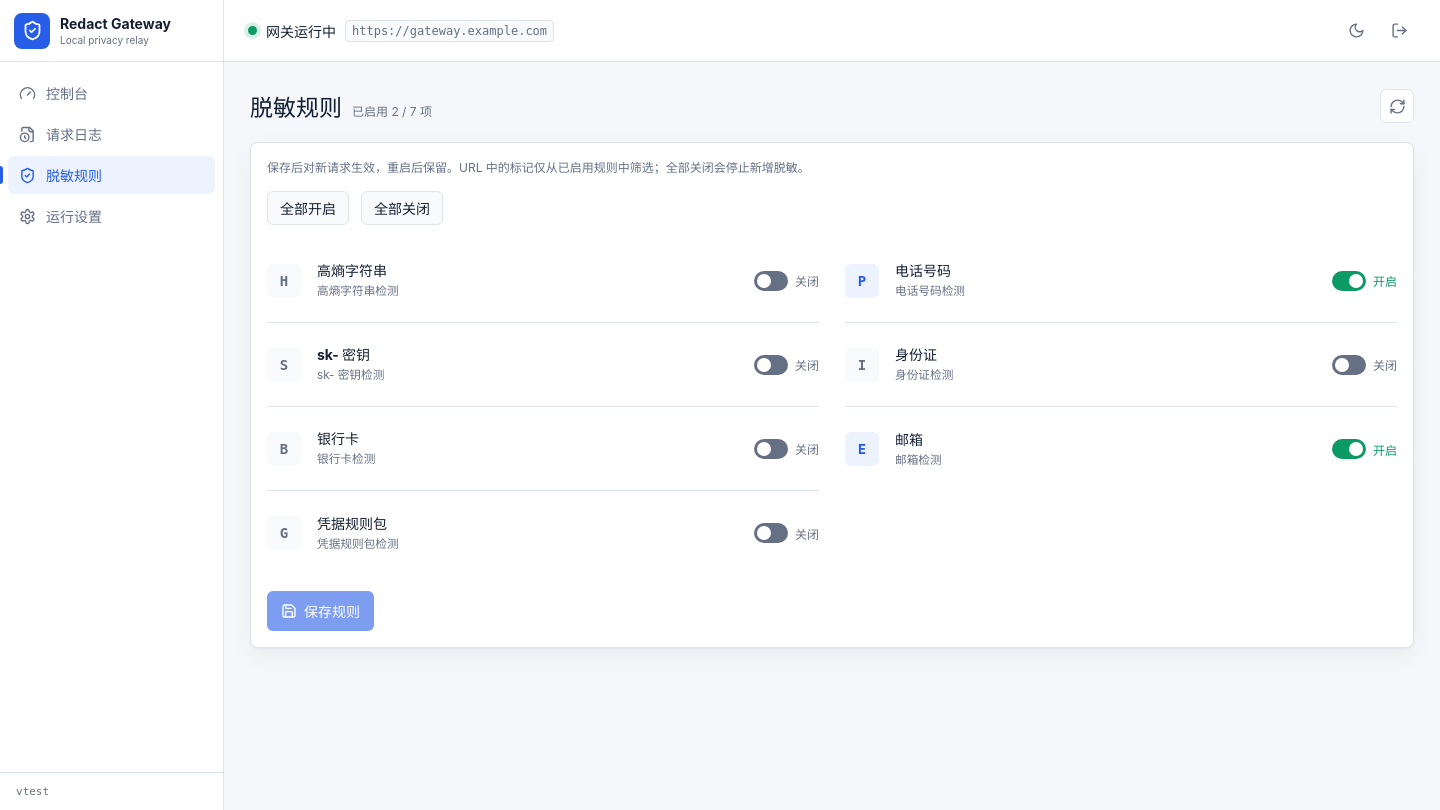
Test case: Rule settings › keeps the saved state and draft separate when saving fails, then allows retry
Click the switch named "电话号码" at [1364, 280], box x1=1332 y1=262 x2=1397 y2=298
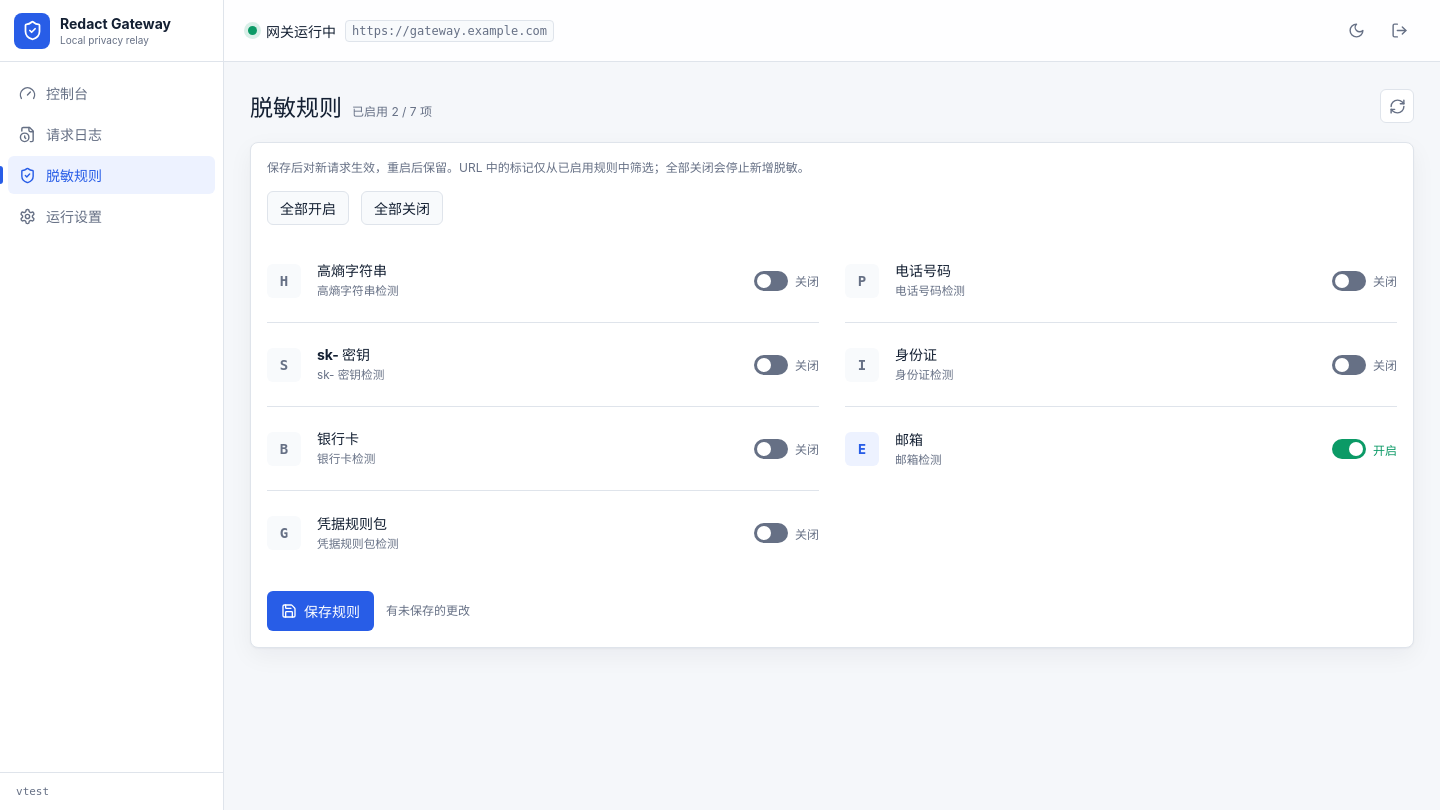
Click the button "保存规则" at [320, 611], box x1=267 y1=591 x2=374 y2=631
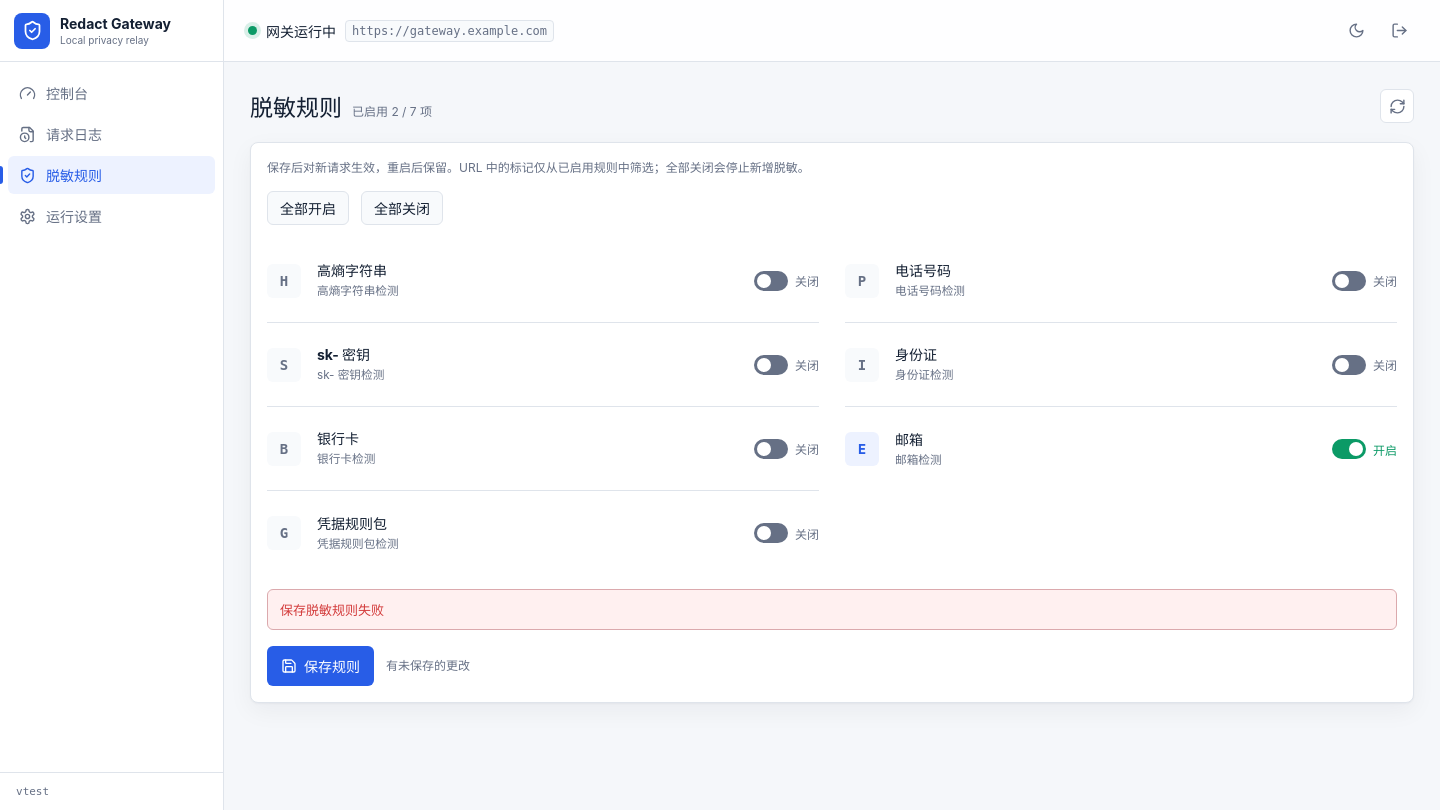
Expected: the text "已启用 2 / 7 项" is shown, x1=352 y1=102 x2=432 y2=119
Expected: the switch named "电话号码" is not checked, x1=1332 y1=262 x2=1397 y2=298
Expected: the text "保存脱敏规则失败" is shown, x1=267 y1=589 x2=1397 y2=630
Click the button "保存规则" at [320, 666], box x1=267 y1=646 x2=374 y2=686
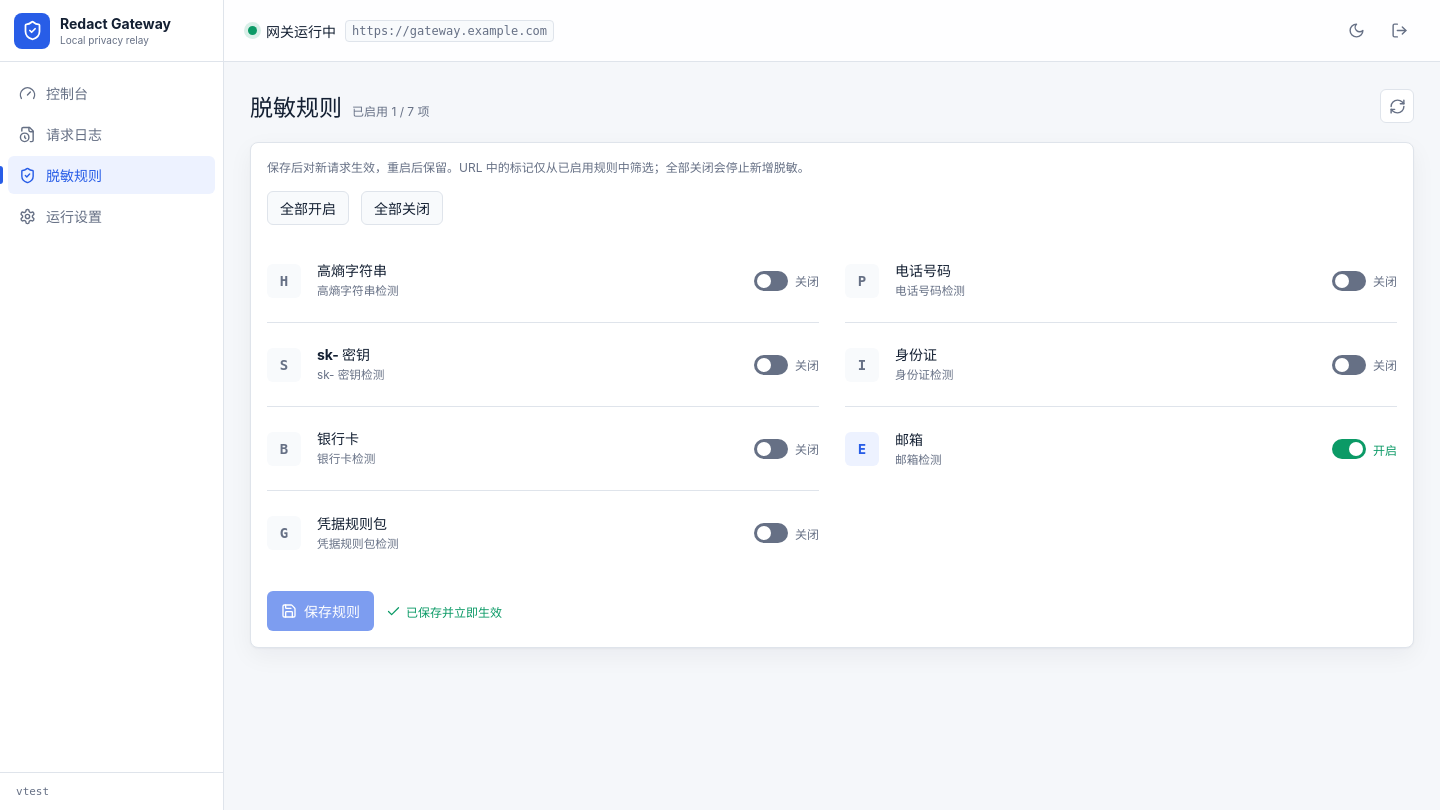
Expected: the text "已保存并立即生效" is shown, x1=386 y1=602 x2=502 y2=620
Expected: the text "已启用 1 / 7 项" is shown, x1=352 y1=102 x2=430 y2=119
